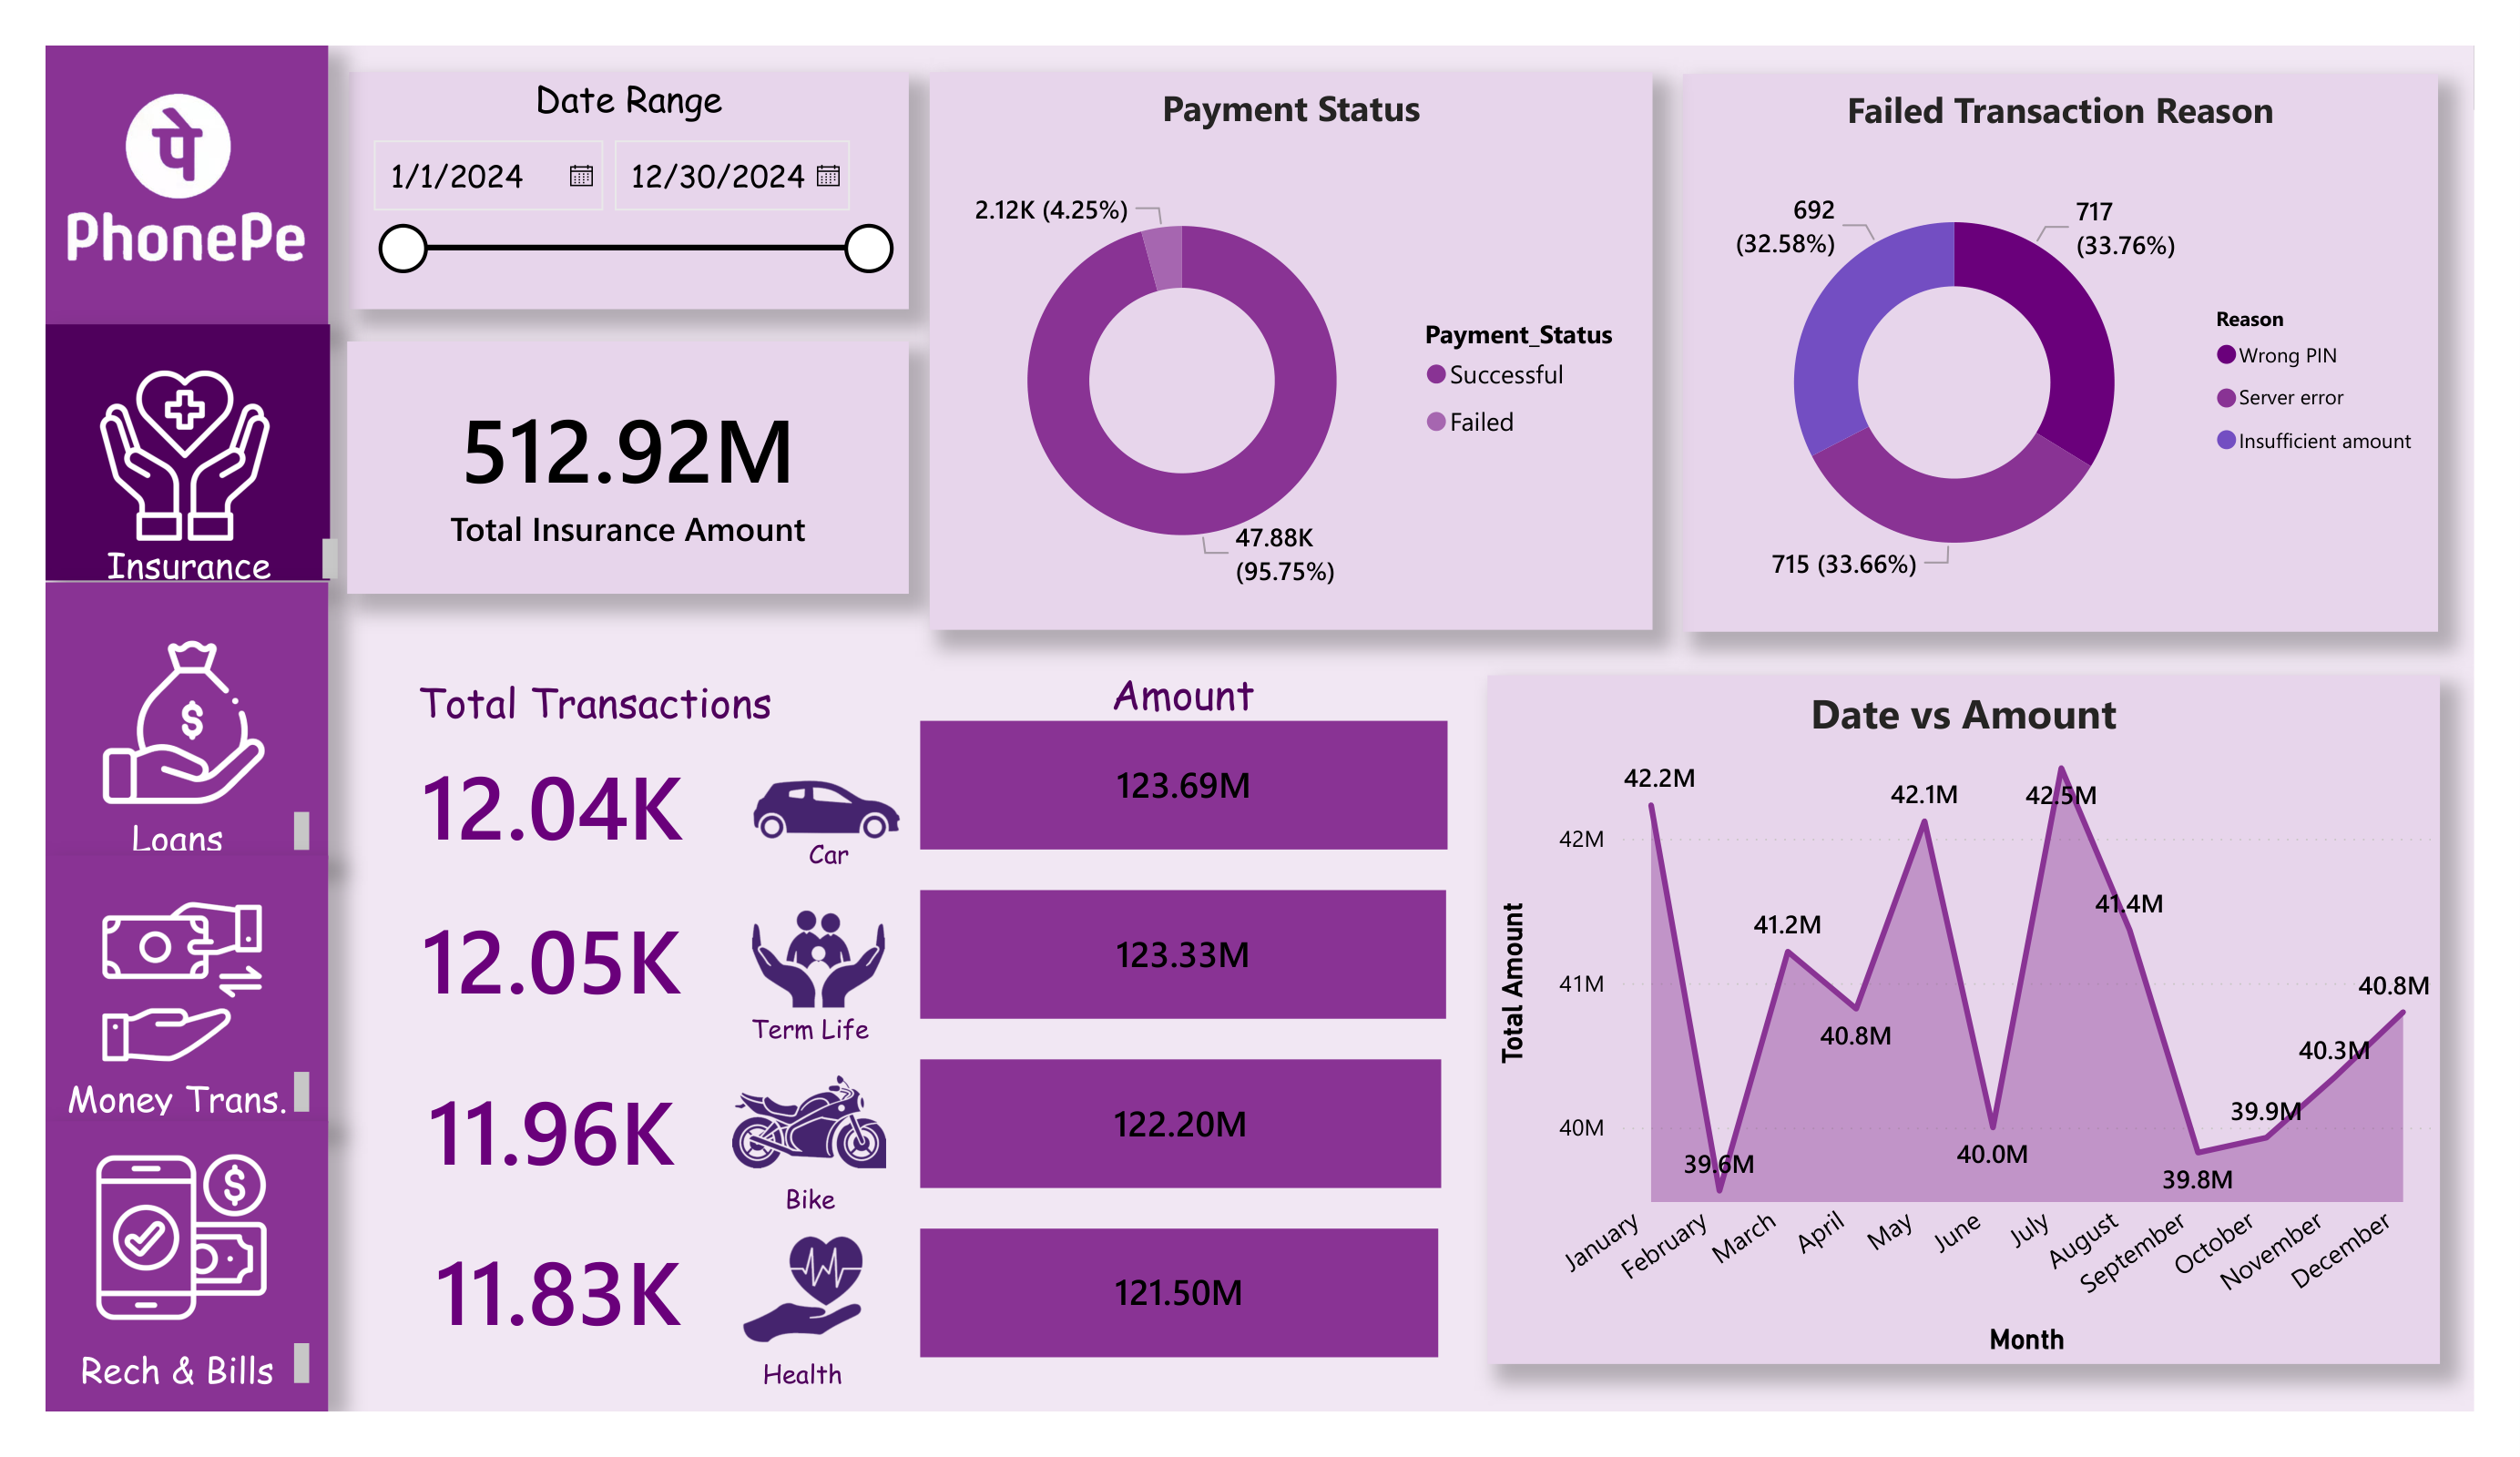

This screenshot's page, from the dashboard's own definition file:
{"tool":"powerbi","page":{"name":"Insurance","canvas":[1280,720],"ordinal":1},"visuals":[{"type":"shape","box":[0,0,148.8,147.5],"z":0,"group":"g1"},{"type":"slicer","title":"Date Range","fields":{"Values":["Insurance.Date"]},"box":[160.5,14.5,294.4,124.3],"z":0},{"type":"group","id":"g1","title":"Group 1","box":[0,0,148.8,147.5],"z":1000},{"type":"shape","box":[0,147.1,149.8,135.2],"z":1000,"group":"g2"},{"type":"group","id":"g2","title":"Group 2","box":[0,147.1,158.6,141.4],"z":2000},{"type":"shape","box":[0,282.5,148.8,146.1],"z":2000,"group":"g3"},{"type":"group","id":"g3","title":"Group 3","box":[0,282.5,148.8,146.2],"z":3000},{"type":"shape","box":[0,427.1,148.6,141.4],"z":3000,"group":"g4"},{"type":"group","id":"g4","title":"Group 4","box":[0,427.1,148.6,141.6],"z":4000},{"type":"shape","box":[0,567.1,148.6,152.9],"z":4000,"group":"g5"},{"type":"image","box":[6.2,7.5,135,130],"z":5000,"group":"g1"},{"type":"group","id":"g5","title":"Group 5","box":[0,567.1,148.6,152.9],"z":5000},{"type":"actionButton","box":[0,0,148.6,147.1],"z":6000},{"type":"image","box":[15,307.1,118.9,95.9],"z":6000,"group":"g3"},{"type":"actionButton","box":[0,282.5,148.8,146.2],"z":7000},{"type":"image","box":[23.8,440,96.2,107.5],"z":7000,"group":"g4"},{"type":"actionButton","box":[0,428.8,148.8,138.8],"z":8000},{"type":"image","box":[13.8,577.5,115,101.2],"z":8000,"group":"g5"},{"type":"image","box":[18.7,161,109.3,110.1],"z":9000,"group":"g2"},{"type":"actionButton","box":[0,568.8,148.8,151.2],"z":9000},{"type":"textbox","box":[0,254.7,158.6,33.8],"z":10000,"group":"g2"},{"type":"areaChart","title":"Date vs Amount","fields":{"Category":["Insurance.Date.Variation.Date Hierarchy.Month"],"Y":["Sum(Insurance.Premium)"]},"box":[760.1,331.8,501.9,363.1],"z":10000},{"type":"donutChart","title":"Failed Transaction Reason","fields":{"Category":["Insurance.Reason"],"Y":["CountNonNull(Insurance.Reason)"]},"box":[863.1,15.1,397.9,293.7],"z":11000},{"type":"textbox","box":[2.5,398,141.4,30.7],"z":11000,"group":"g3"},{"type":"card","title":"Total Transaction Amount","fields":{"Values":["Sum(Insurance.Premium)"]},"box":[158.8,156.2,296.2,132.5],"z":12000},{"type":"textbox","box":[2.5,536.2,141.2,32.5],"z":12000,"group":"g4"},{"type":"donutChart","title":"Payment Status","fields":{"Y":["CountNonNull(Insurance.Payment_Status)"],"Category":["Insurance.Payment_Status"]},"box":[465.7,14.5,381.2,293.2],"z":13000},{"type":"textbox","box":[2.5,678.7,141.2,32.5],"z":13000,"group":"g5"},{"type":"clusteredBarChart","title":"Date vs Amount","fields":{"Y":["Sum(Insurance.Premium)"],"Category":["Insurance.Insurance_Type"]},"box":[455.6,343.1,359.5,356.8],"z":14000},{"type":"image","box":[362.3,526.9,81,81],"z":15000},{"type":"image","box":[371.9,363.6,82.3,76.8],"z":16000},{"type":"image","box":[360,617,78,77],"z":17000},{"type":"image","box":[371.9,452.8,71.4,57.6],"z":18000},{"type":"textbox","box":[179.8,325.2,219.6,68.6],"z":19000},{"type":"card","title":"Total Transaction Amount","fields":{"Values":["CountNonNull(Insurance.Transaction_ID)"]},"box":[179.8,359.5,174.3,78.2],"z":20000},{"type":"card","title":"Total Transaction Amount","fields":{"Values":["CountNonNull(Insurance.Transaction_ID)"]},"box":[193.5,440.5,146.8,81],"z":21000},{"type":"textbox","box":[489.9,321.1,219.6,68.6],"z":22000},{"type":"card","title":"Total Transaction Amount","fields":{"Values":["CountNonNull(Insurance.Transaction_ID)"]},"box":[189.4,525.6,155.1,89.2],"z":23000},{"type":"card","title":"Total Transaction Amount","fields":{"Values":["CountNonNull(Insurance.Transaction_ID)"]},"box":[194.3,614.3,151.4,81.4],"z":24000},{"type":"textbox","box":[346,411,134,35],"z":25000},{"type":"textbox","box":[336,503,134,35],"z":26000},{"type":"textbox","box":[336,593,134,35],"z":27000},{"type":"textbox","box":[332,685,134,35],"z":28000}]}

Visuals, with their boxes on the page's 1280x720 design canvas (x1, y1, x2, y2). These are canvas units, not pixel positions in the 2520x1457 screenshot, which may show the page scaled, cropped or inside an application window:
shape: select_region(0, 0, 149, 148)
"Date Range" slicer: select_region(160, 14, 455, 139)
"Group 1" group: select_region(0, 0, 149, 148)
shape: select_region(0, 147, 150, 282)
"Group 2" group: select_region(0, 147, 159, 288)
shape: select_region(0, 282, 149, 429)
"Group 3" group: select_region(0, 282, 149, 429)
shape: select_region(0, 427, 149, 568)
"Group 4" group: select_region(0, 427, 149, 569)
shape: select_region(0, 567, 149, 720)
image: select_region(6, 8, 141, 138)
"Group 5" group: select_region(0, 567, 149, 720)
actionButton: select_region(0, 0, 149, 147)
image: select_region(15, 307, 134, 403)
actionButton: select_region(0, 282, 149, 429)
image: select_region(24, 440, 120, 548)
actionButton: select_region(0, 429, 149, 568)
image: select_region(14, 578, 129, 679)
image: select_region(19, 161, 128, 271)
actionButton: select_region(0, 569, 149, 720)
textbox: select_region(0, 255, 159, 288)
"Date vs Amount" areaChart: select_region(760, 332, 1262, 695)
"Failed Transaction Reason" donutChart: select_region(863, 15, 1261, 309)
textbox: select_region(2, 398, 144, 429)
"Total Transaction Amount" card: select_region(159, 156, 455, 289)
textbox: select_region(2, 536, 144, 569)
"Payment Status" donutChart: select_region(466, 14, 847, 308)
textbox: select_region(2, 679, 144, 711)
"Date vs Amount" clusteredBarChart: select_region(456, 343, 815, 700)
image: select_region(362, 527, 443, 608)
image: select_region(372, 364, 454, 440)
image: select_region(360, 617, 438, 694)
image: select_region(372, 453, 443, 510)
textbox: select_region(180, 325, 399, 394)
"Total Transaction Amount" card: select_region(180, 360, 354, 438)
"Total Transaction Amount" card: select_region(194, 440, 340, 522)
textbox: select_region(490, 321, 710, 390)
"Total Transaction Amount" card: select_region(189, 526, 344, 615)
"Total Transaction Amount" card: select_region(194, 614, 346, 696)
textbox: select_region(346, 411, 480, 446)
textbox: select_region(336, 503, 470, 538)
textbox: select_region(336, 593, 470, 628)
textbox: select_region(332, 685, 466, 720)
